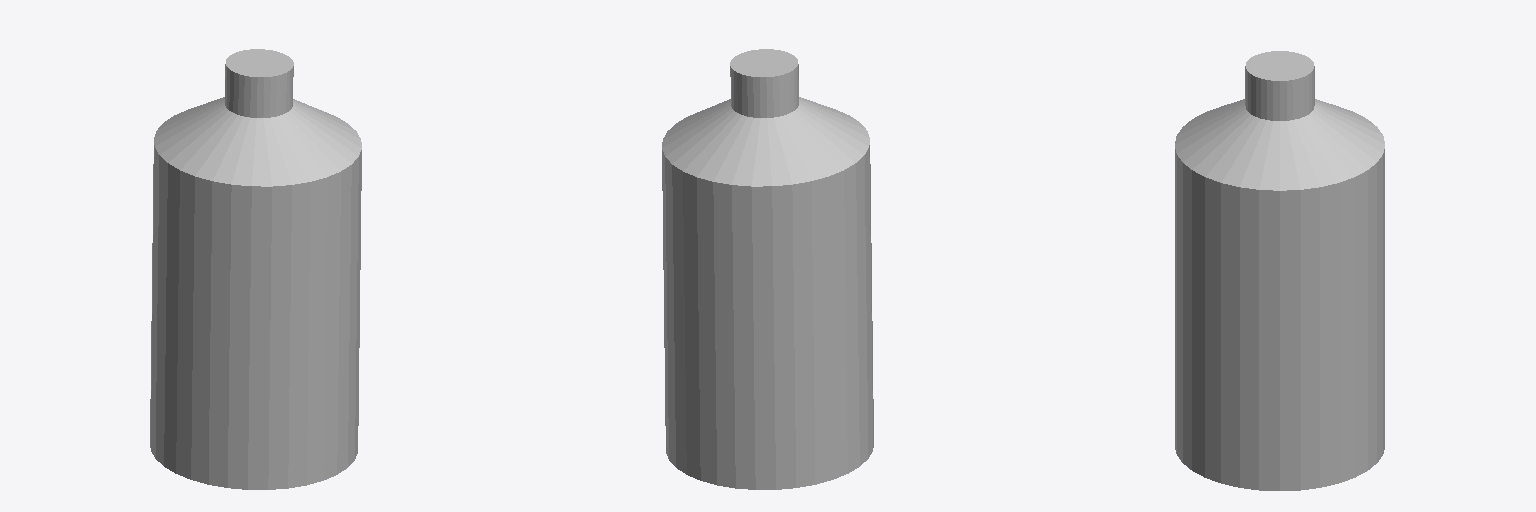
File: cartoucheGas.obj
3 views of the same model, side by side, from view 1: azimuth 30°, elevation 25°; view 2: azimuth 150°, elevation 25°; view 3: azimuth 270°, elevation 25° (orthographic).
Parts seen in each view (by area): view 1: Cylinder; view 2: Cylinder; view 3: Cylinder.
Part boxes in pixels (x1,y1,x2,y2): Cylinder: (150, 49, 361, 489); Cylinder: (662, 49, 873, 489); Cylinder: (1175, 51, 1384, 490).
Bounding box in the file's own units: 0.0503 × 0.1007 × 0.05.